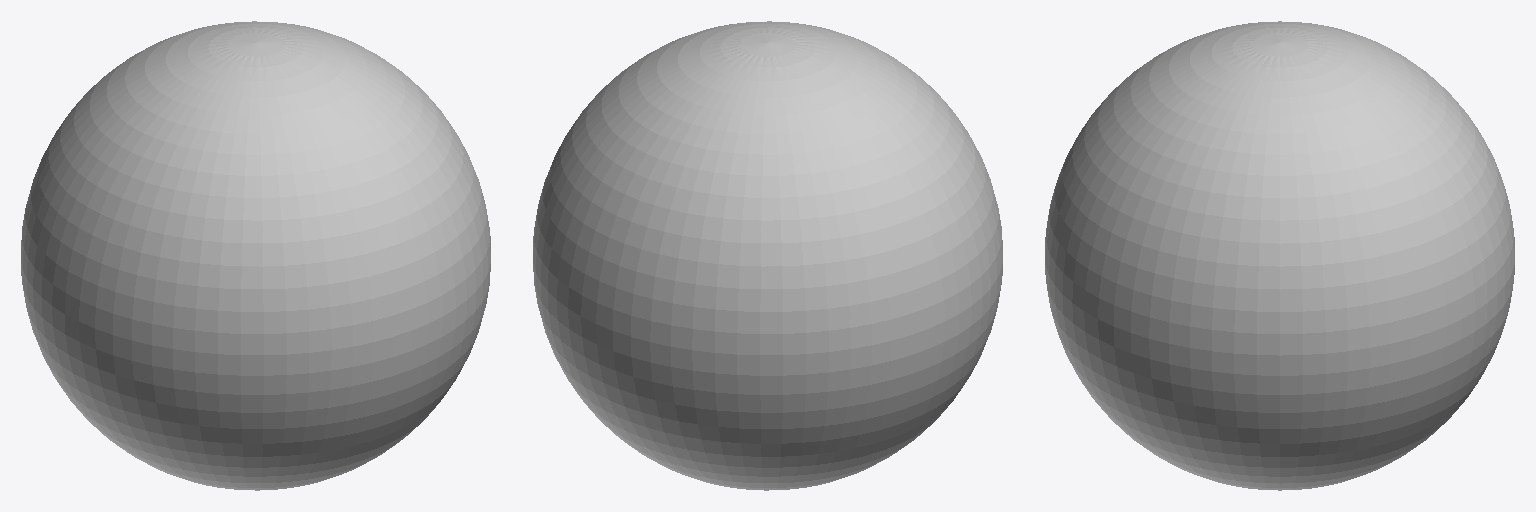
Rendered from sphereTest.obj.
3 views of the same model, side by side, from view 1: azimuth 30°, elevation 25°; view 2: azimuth 150°, elevation 25°; view 3: azimuth 270°, elevation 25° (orthographic).
Bounding box in the file's own units: 4 × 4 × 4.